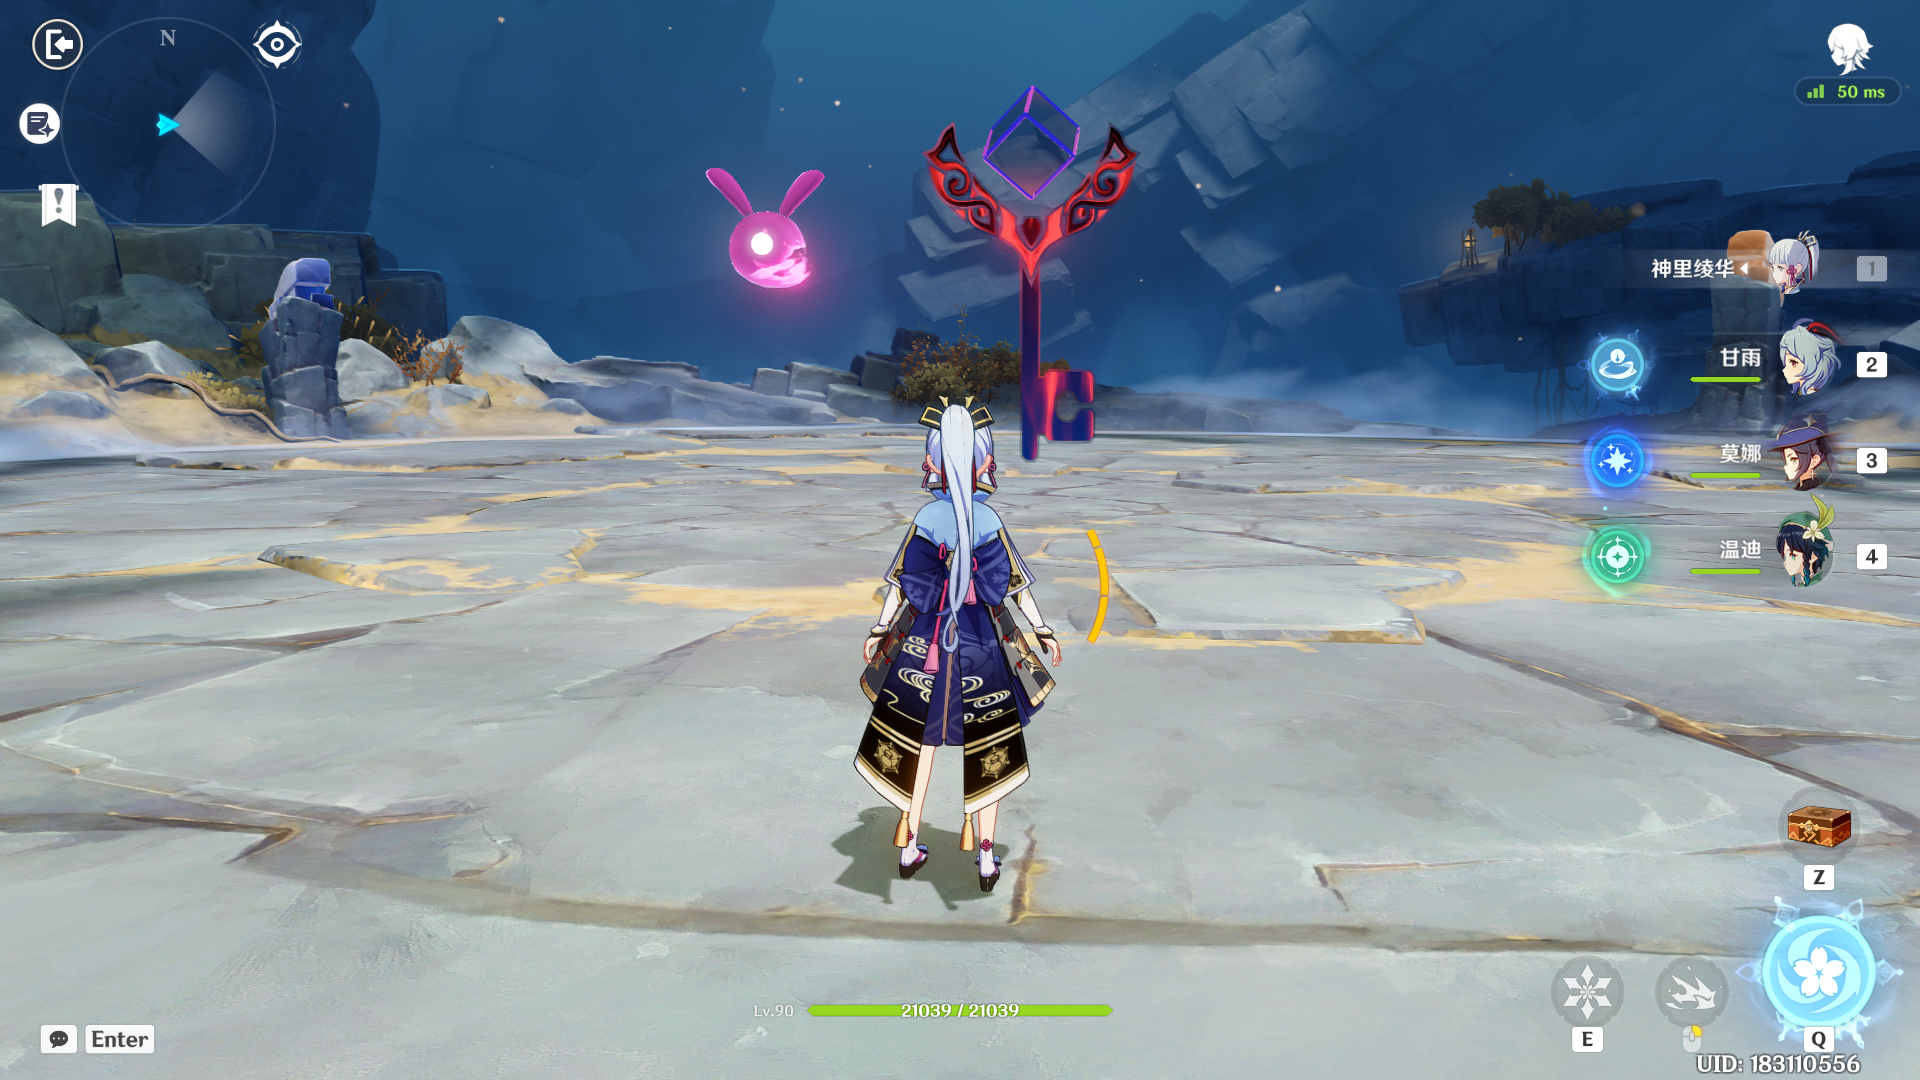character: (798, 338, 1101, 913)
